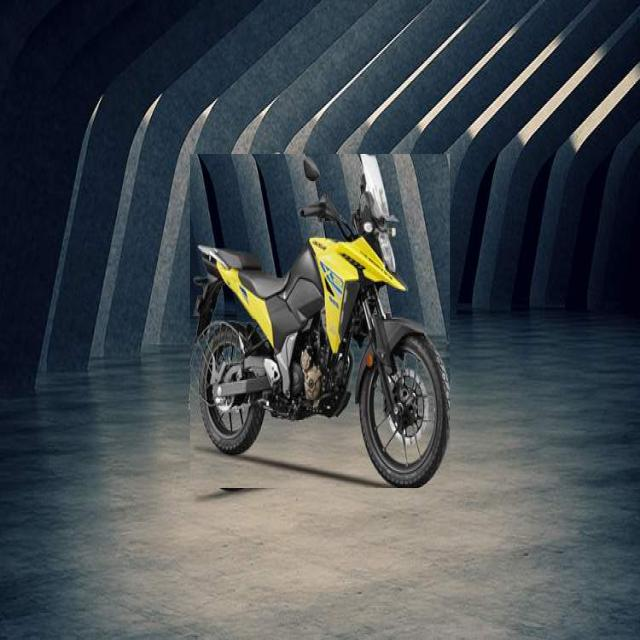motorcycle: (190, 155, 450, 488)
